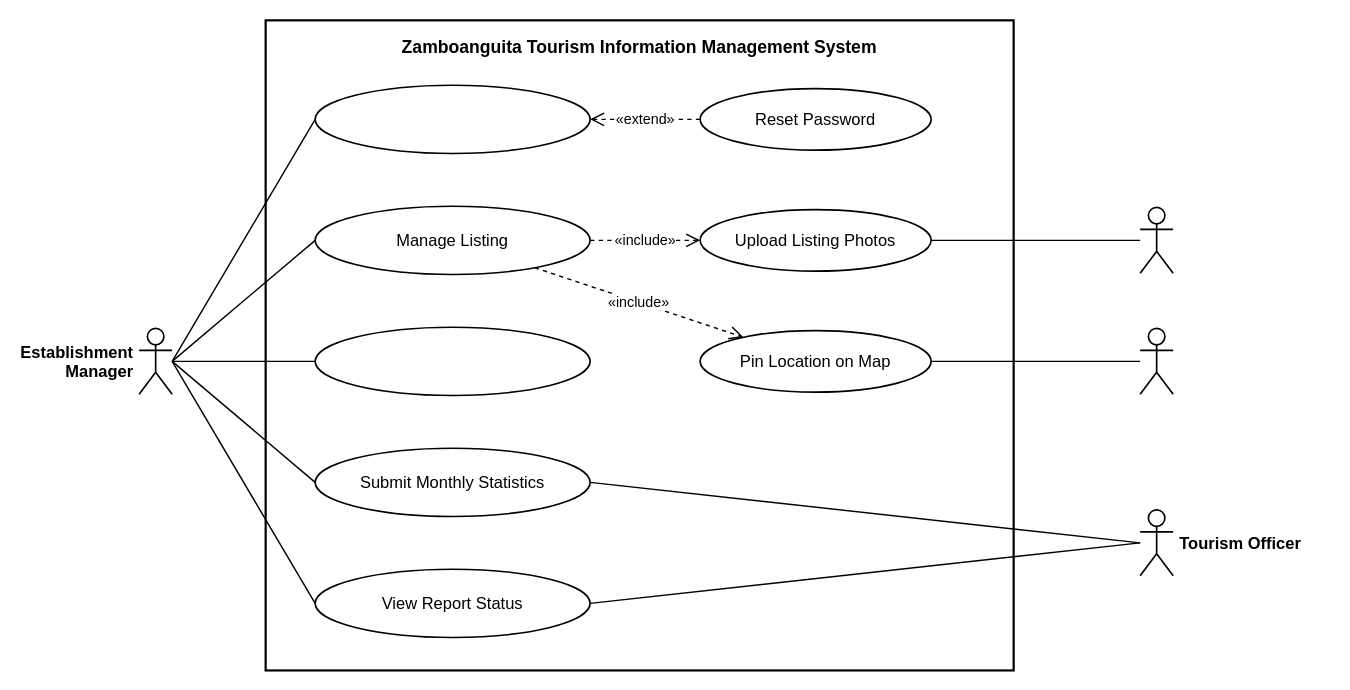
Some shapes in this 1350 by 690 pixel diagram are drawn without their labels. Each missing label, with the centre of its shape:
"Cloudinary" belongs at pixel 1156 240.
"Log In" belongs at pixel 452 119.
"Map and Directions Providers" belongs at pixel 1156 361.
"Update Account Settings" belongs at pixel 452 361.
